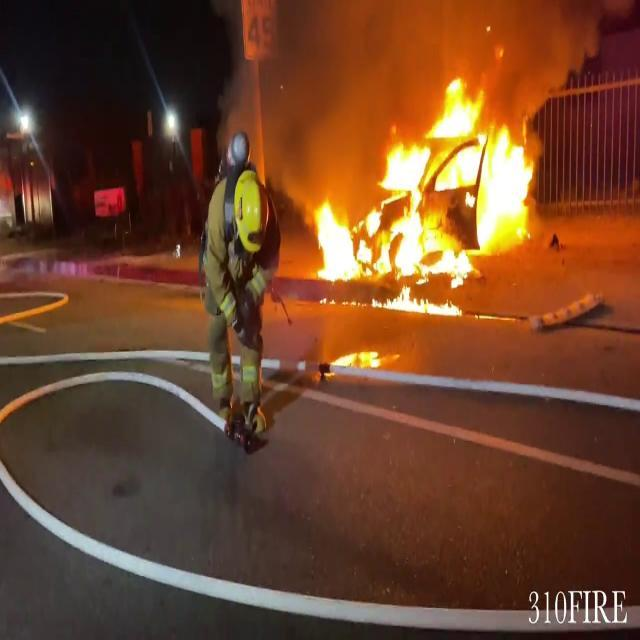Fire: (303, 71, 545, 309)
Smoke: (213, 0, 414, 180)
